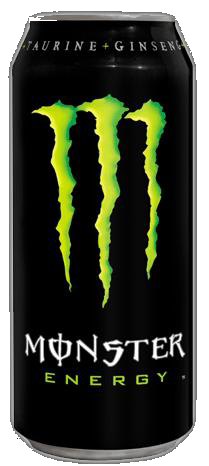grozi_42: (8, 11, 195, 464)
